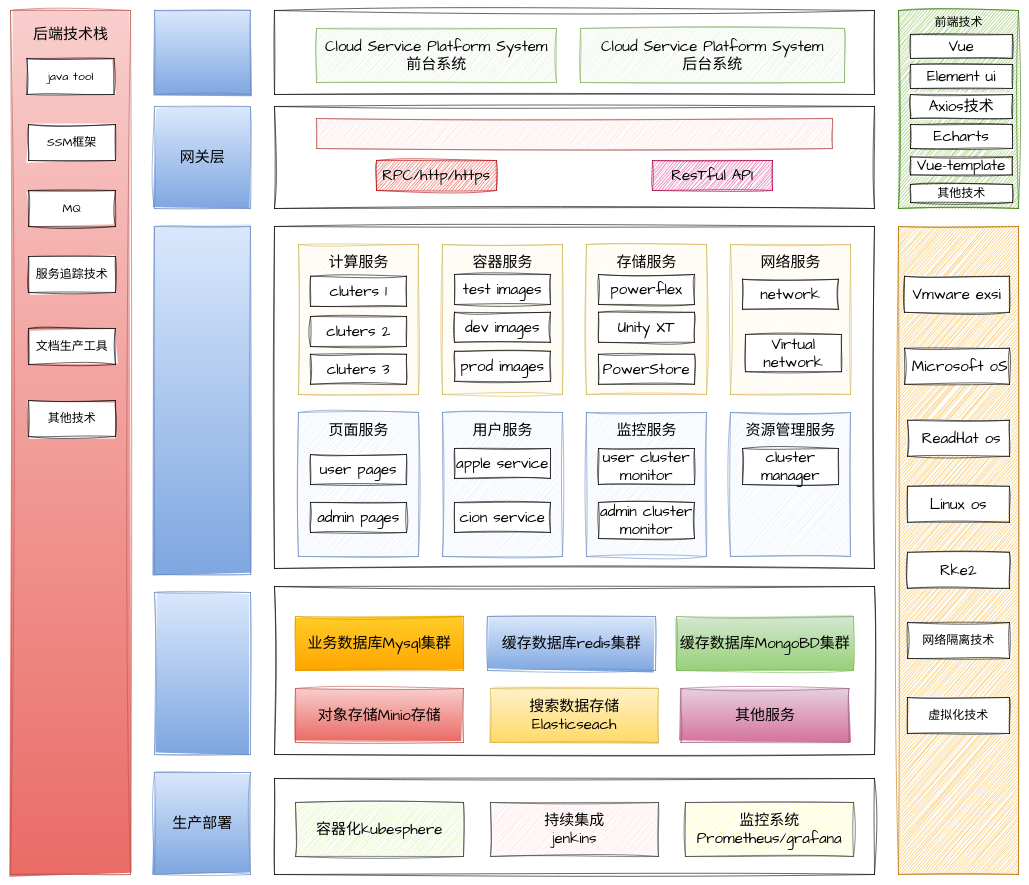
The diagram is 1029 pixels wide and 885 high, and some of its shapes have lost their labels. The shapes that lost their labels are listed below. From the top down, each one's box as (x1, y1, x2, y2) in pixels, then its label:
(154, 10, 250, 94): 访问层
(316, 118, 832, 148): Nginx
(154, 226, 250, 574): 后台系统
(154, 592, 250, 754): 数据存储
